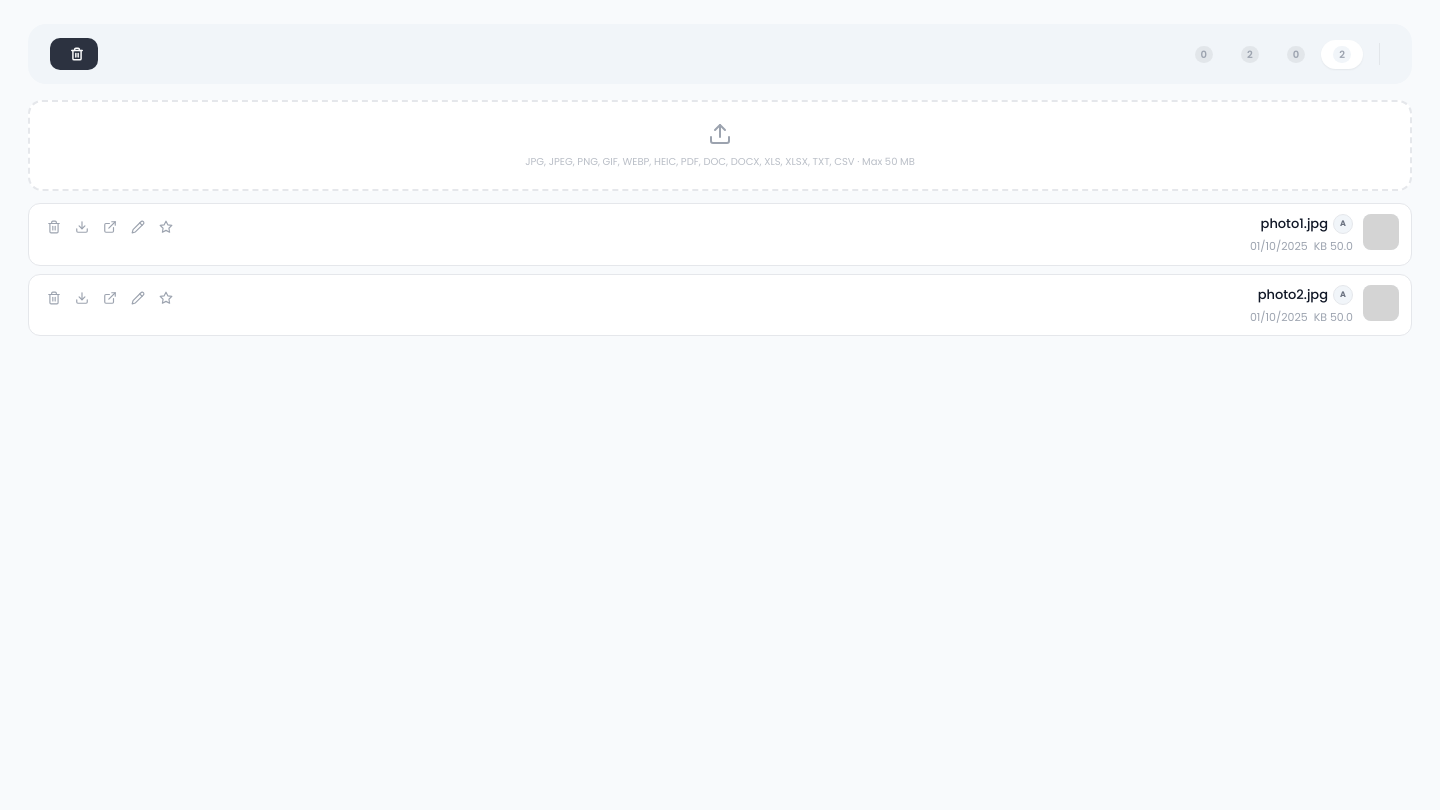
Test: FileManager › FE-COMP-FILEMANAGER-016: multiple images in lightbox shows thumbnail strip
// Open lightbox on first image
Click the text "photo1.jpg" at (1294, 224), box [1261,214,1328,234]
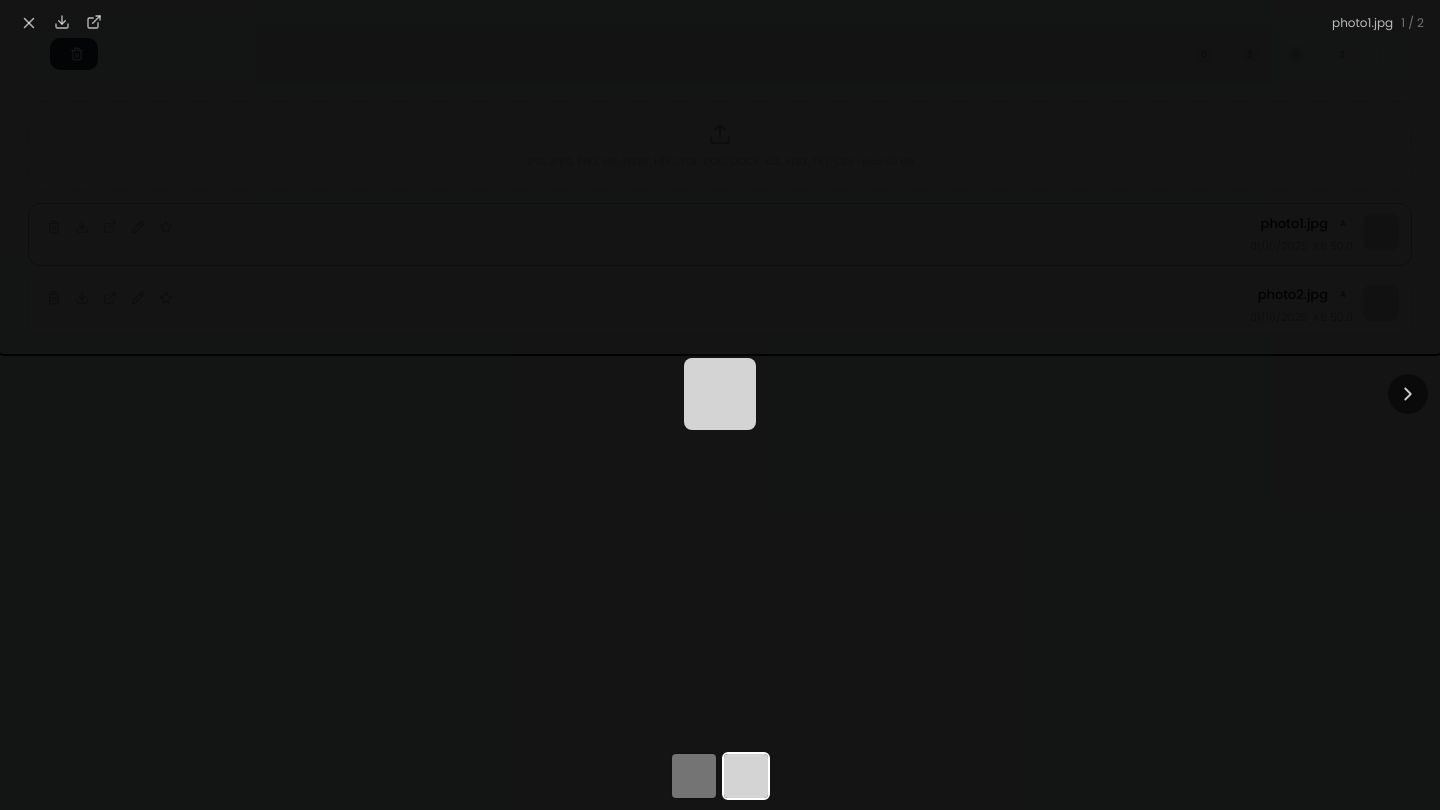
Expected: the text "1 / 2" is shown, [1401,14,1424,31]
